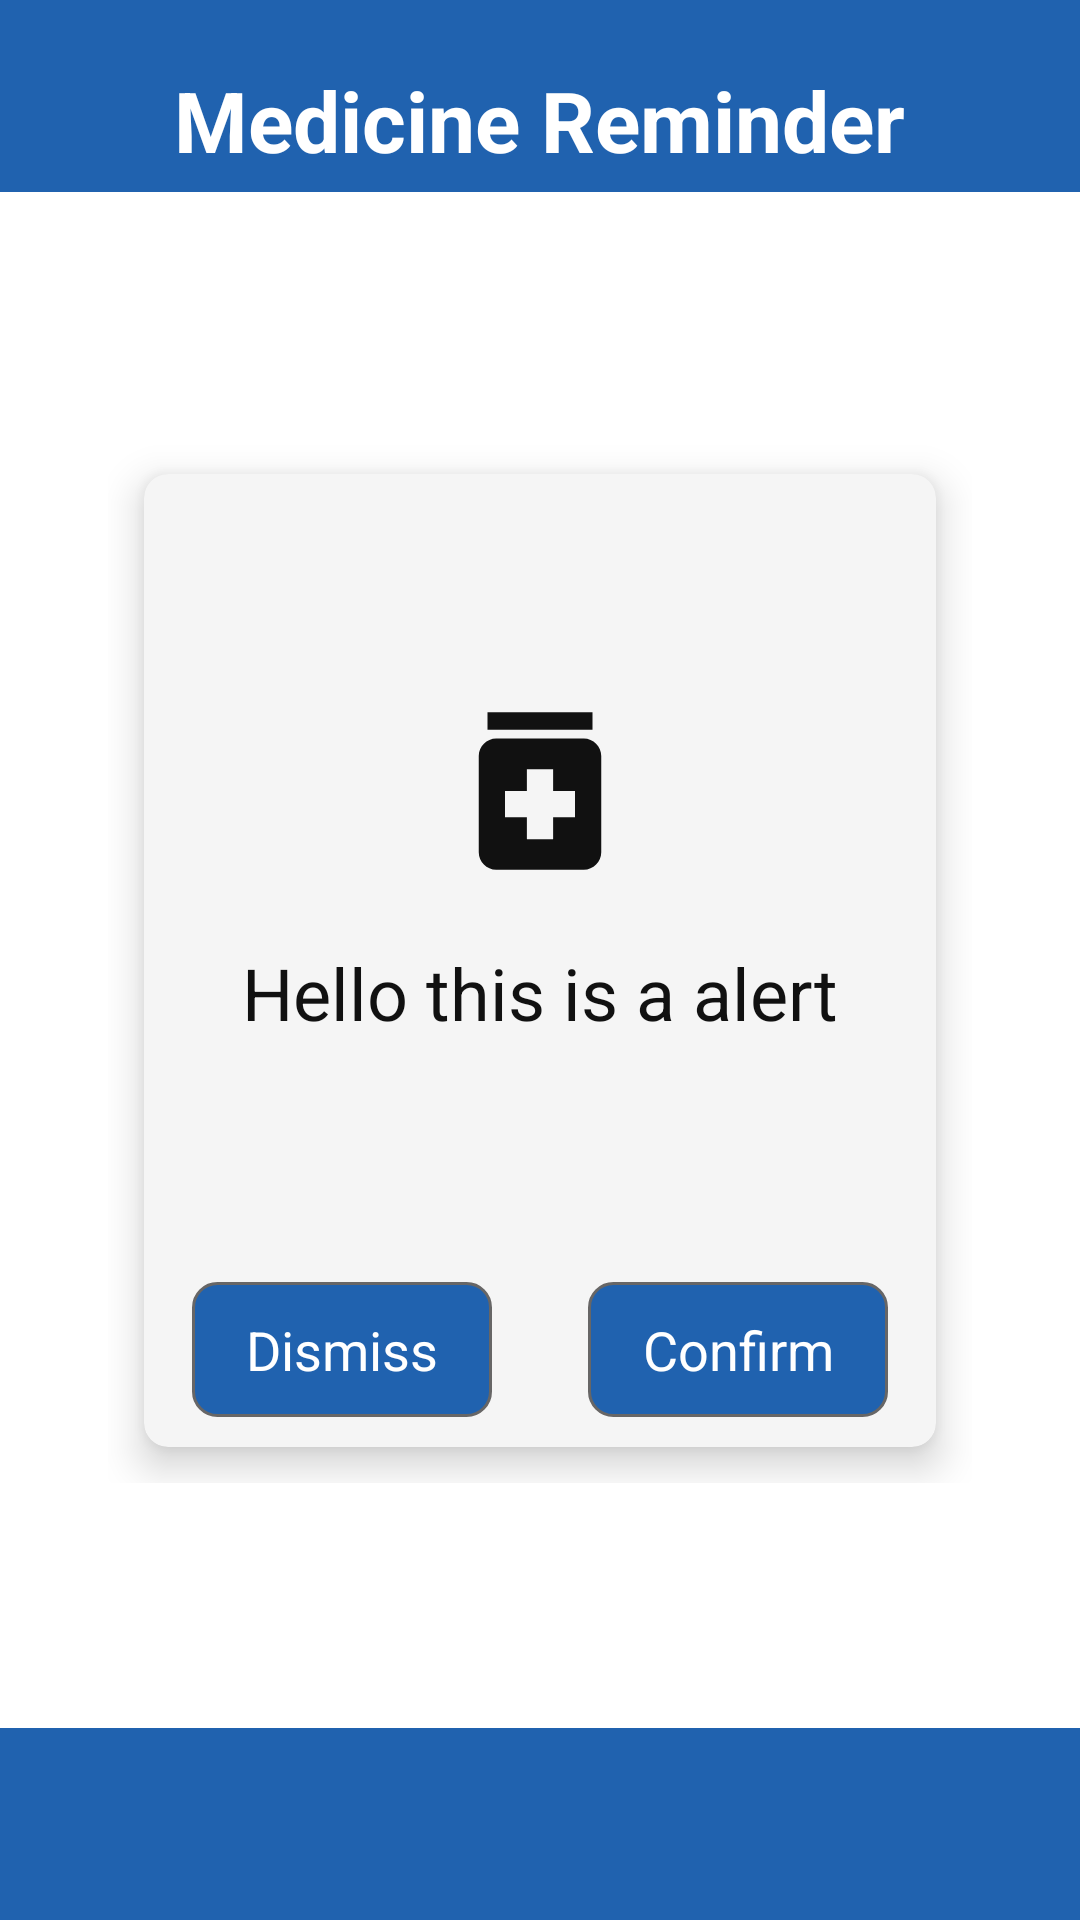

Icon bounding boxes for this 1080 x 1920 phone screenshot, format box=[x1, y1, x2, y2]:
medicine: box=[478, 712, 602, 870]
